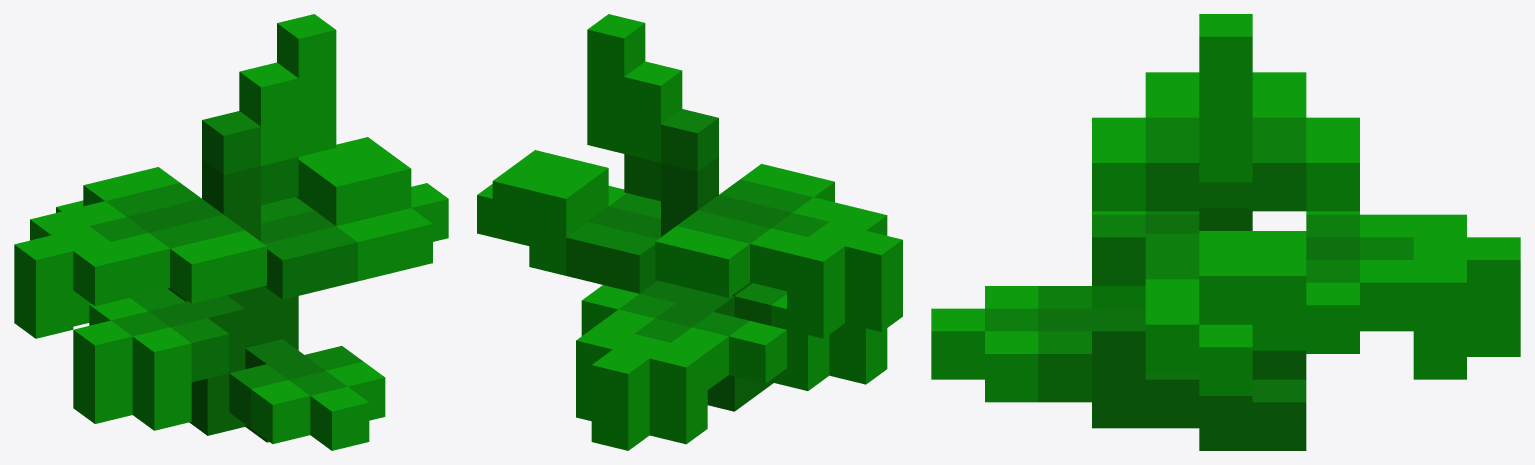
File: weedBush.obj
3 renders of one model, left to right at view 1: azimuth 30°, elevation 25°; view 2: azimuth 150°, elevation 25°; view 3: azimuth 270°, elevation 25°, orthographic. The views are drawn at different scales.
Bounding box in the file's own units: 11 × 9 × 11.
Materials: 1 (1 with a texture image).
